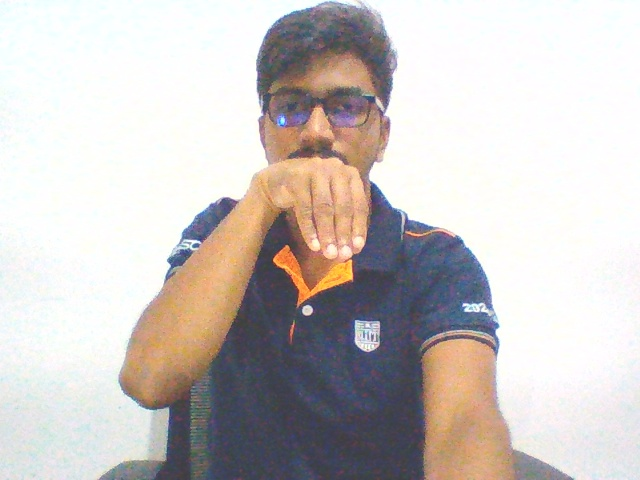Squirrel: (243, 149, 379, 275)
